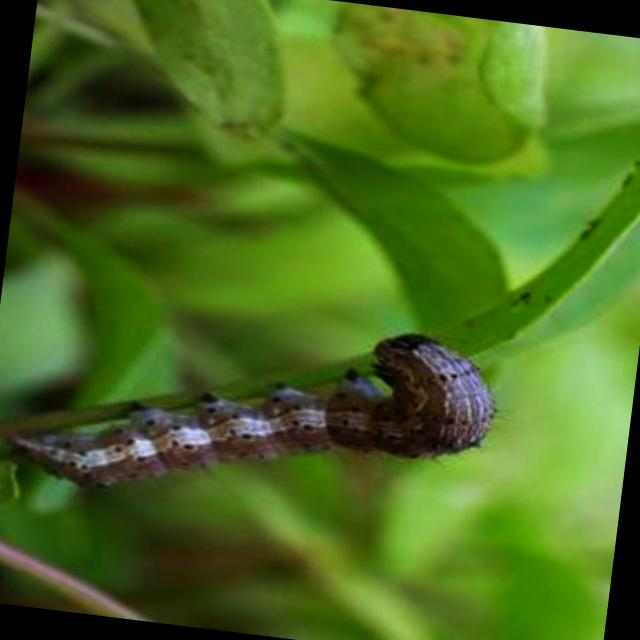Cotton bollworm: (0, 255, 530, 579)
